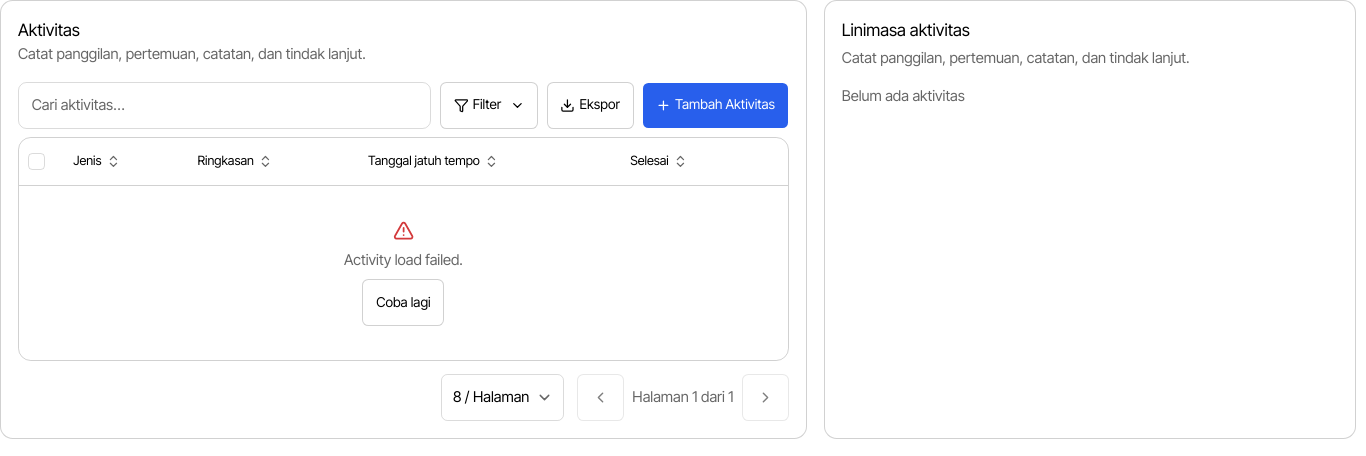
it: ActivitiesSection remainder › shows the error state with retry when loading fails
Expected: the text "Activity load failed." is shown, [344,250,463,271]
What coordinates should you click on to do the following:
click the button "Coba lagi"
I would click on:
 (403, 303)
Its box is [362,279,444,326].
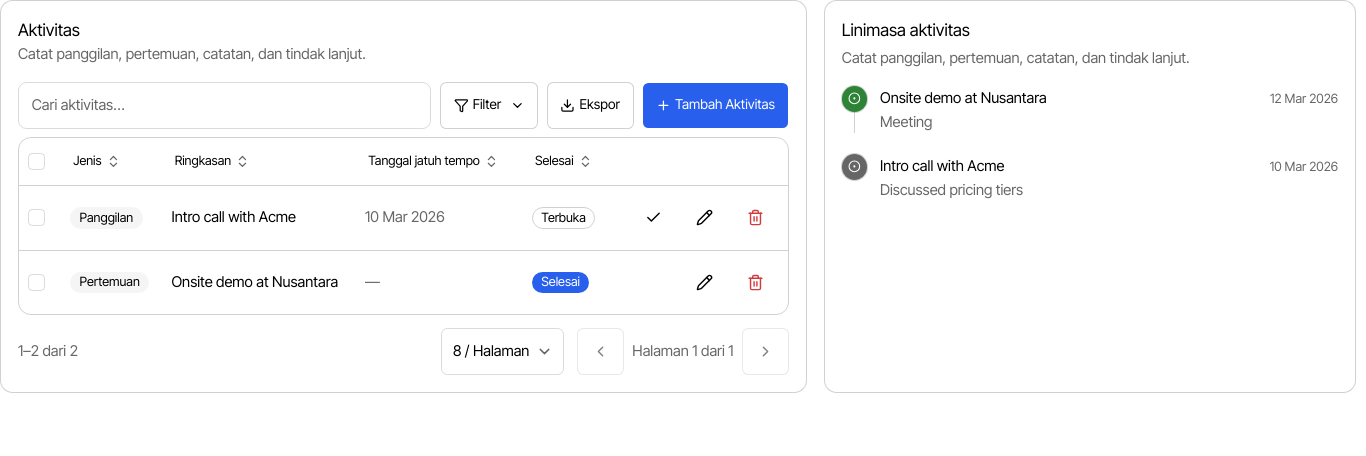
Expected: the text "Intro call with Acme" is shown 2 times, [172,208,296,226]; [880,156,1004,177]
